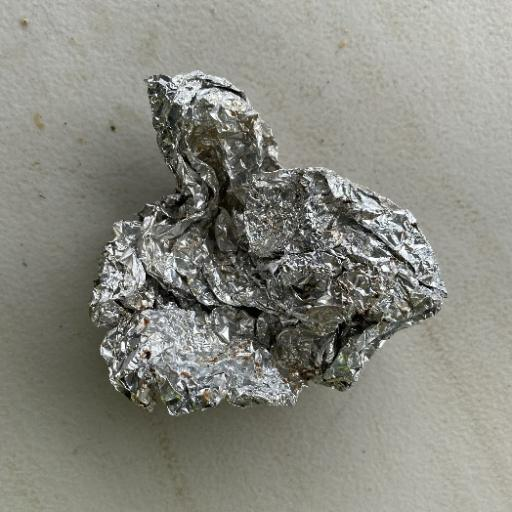Metal: (87, 70, 448, 418)
